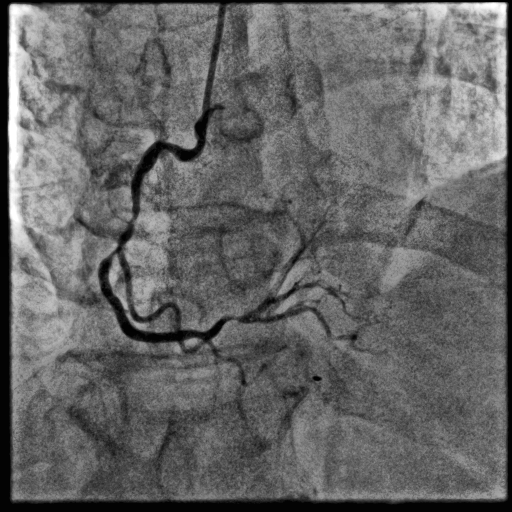pborca: (205, 209, 329, 338)
pda: (204, 339, 265, 386)
rca: (98, 118, 211, 343)
